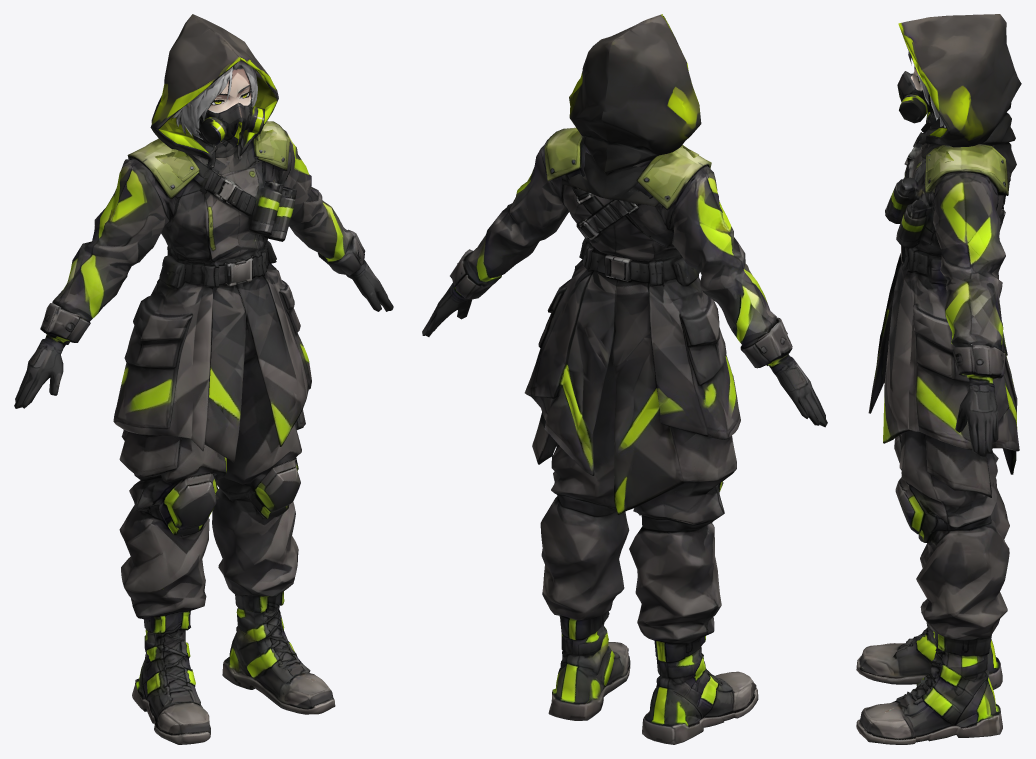
Rendered from miazuma.glb.
3 views of the same model, side by side, from view 1: azimuth 30°, elevation 25°; view 2: azimuth 150°, elevation 25°; view 3: azimuth 270°, elevation 25° (orthographic). The views are drawn at different scales.
Visible parts, largest first — view 1: tripo_part_0, tripo_part_1, miazuma_Head, tripo_part_3, tripo_part_4; view 2: tripo_part_1, tripo_part_0, miazuma_Head, tripo_part_3, tripo_part_4; view 3: tripo_part_0, tripo_part_1, miazuma_Head, tripo_part_4.
Part boxes in pixels (<box>): tripo_part_0: <box>119,323,335,744</box>; tripo_part_1: <box>113,121,311,462</box>; miazuma_Head: <box>150,14,278,181</box>; tripo_part_3: <box>14,158,171,408</box>; tripo_part_4: <box>279,130,393,311</box>; tripo_part_1: <box>524,127,740,514</box>; tripo_part_0: <box>532,338,758,744</box>; miazuma_Head: <box>561,14,701,206</box>; tripo_part_3: <box>672,166,827,427</box>; tripo_part_4: <box>422,139,568,336</box>; tripo_part_0: <box>856,431,1009,744</box>; tripo_part_1: <box>868,132,1019,474</box>; miazuma_Head: <box>897,14,1021,182</box>; tripo_part_4: <box>932,172,1005,456</box>.
Size of the model in its own units: 0.5857 by 0.9741 by 0.2118.
5 materials, 5 textured.
